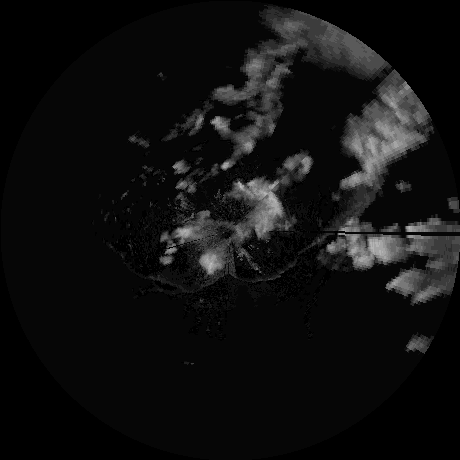frontgust: (231, 235, 324, 283), (150, 276, 229, 294)
